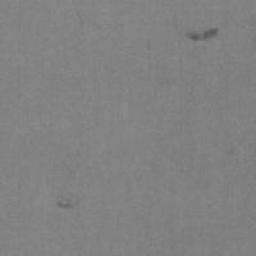Inclusion: (186, 28, 219, 41), (56, 199, 74, 209)
